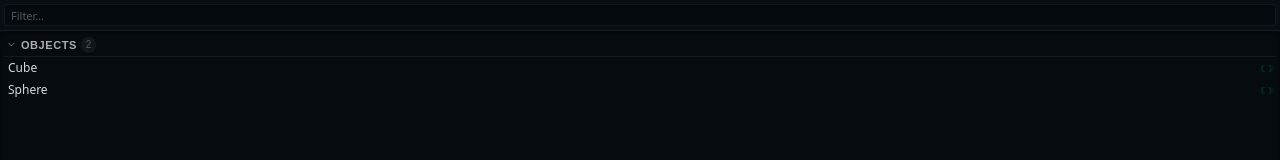
Test case: TreeList — context menu integration › context menu closes after item selection
The image size is (1280, 160).
Right-click the text "Cube" at (23, 68), box [8,59,37,76]
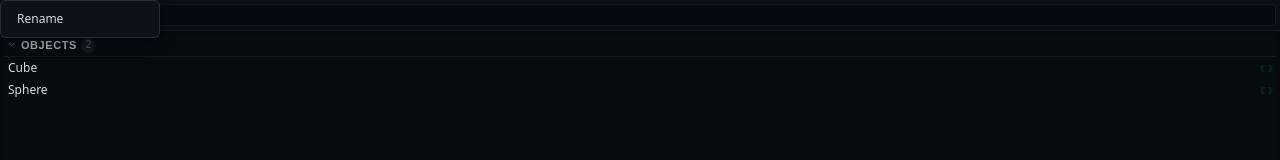
Check: the menu with class "ctx-menu" is shown, box [0,0,160,38]
Click the menu item "Rename". click: (40, 18)
box: [17,10,63,27]
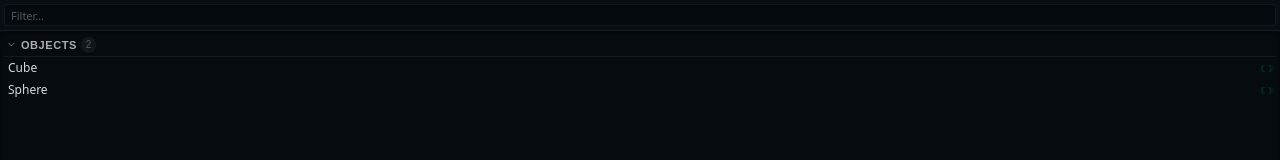
Check: the menu with class "ctx-menu" is gone
